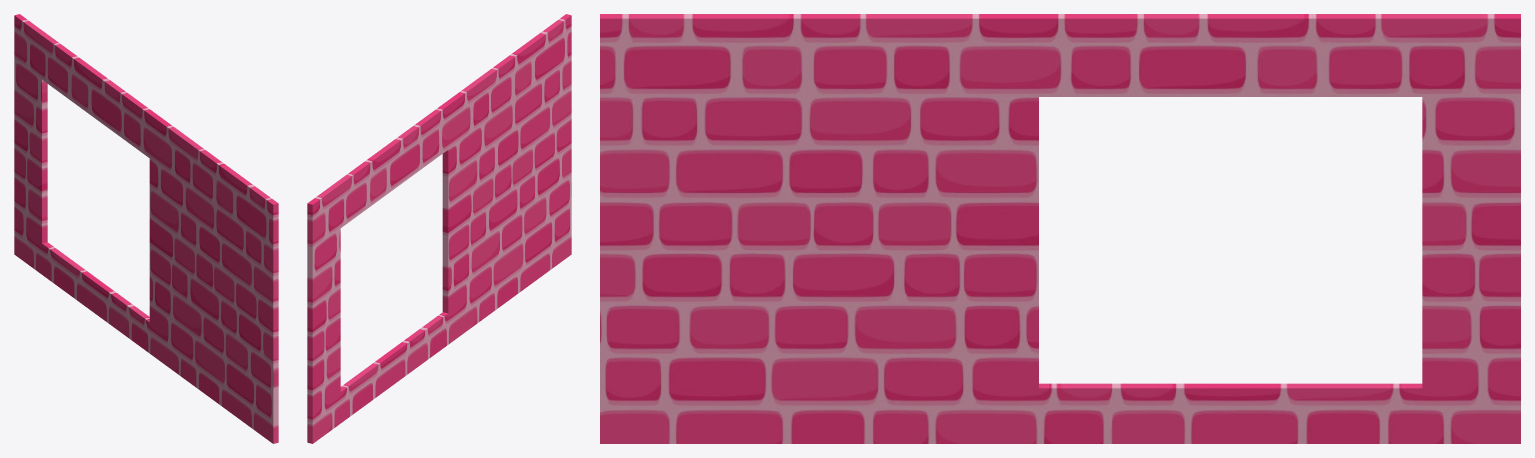
The model's file is PARED LOCKER COLEGIO.fbx.
3 views of the same model, side by side, from view 1: azimuth 30°, elevation 25°; view 2: azimuth 150°, elevation 25°; view 3: azimuth 270°, elevation 25° (orthographic). The views are drawn at different scales.
Parts seen in each view (by area): view 1: PARED LOCKER; view 2: PARED LOCKER; view 3: PARED LOCKER.
Part boxes in pixels (left/top/right/bottom): PARED LOCKER: left=14, top=14, right=278, bottom=443; PARED LOCKER: left=307, top=14, right=571, bottom=443; PARED LOCKER: left=600, top=14, right=1520, bottom=443.
Size of the model in its own units: 63.39 by 2622 by 5146.
